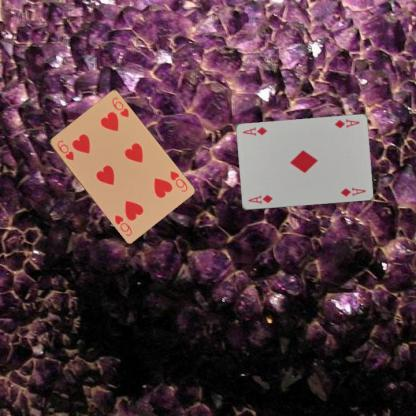6h: (167, 168, 188, 194), (54, 137, 75, 162)
Ad: (245, 193, 274, 205), (332, 117, 361, 129)
